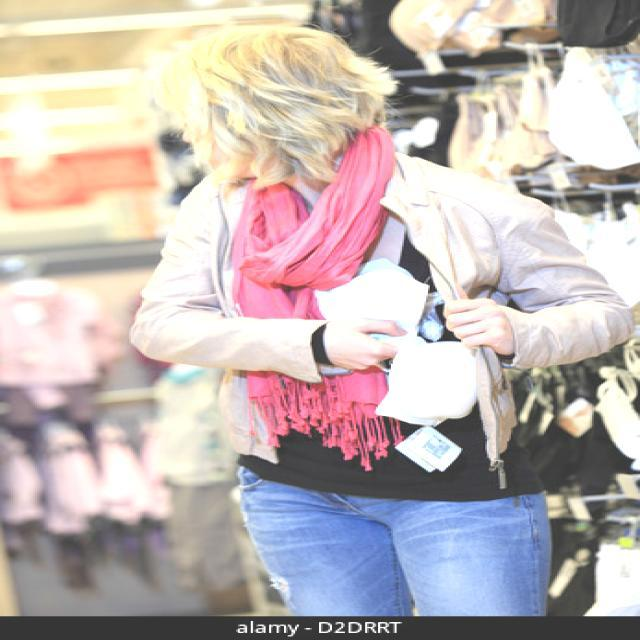shoplifting: (236, 199, 573, 554)
